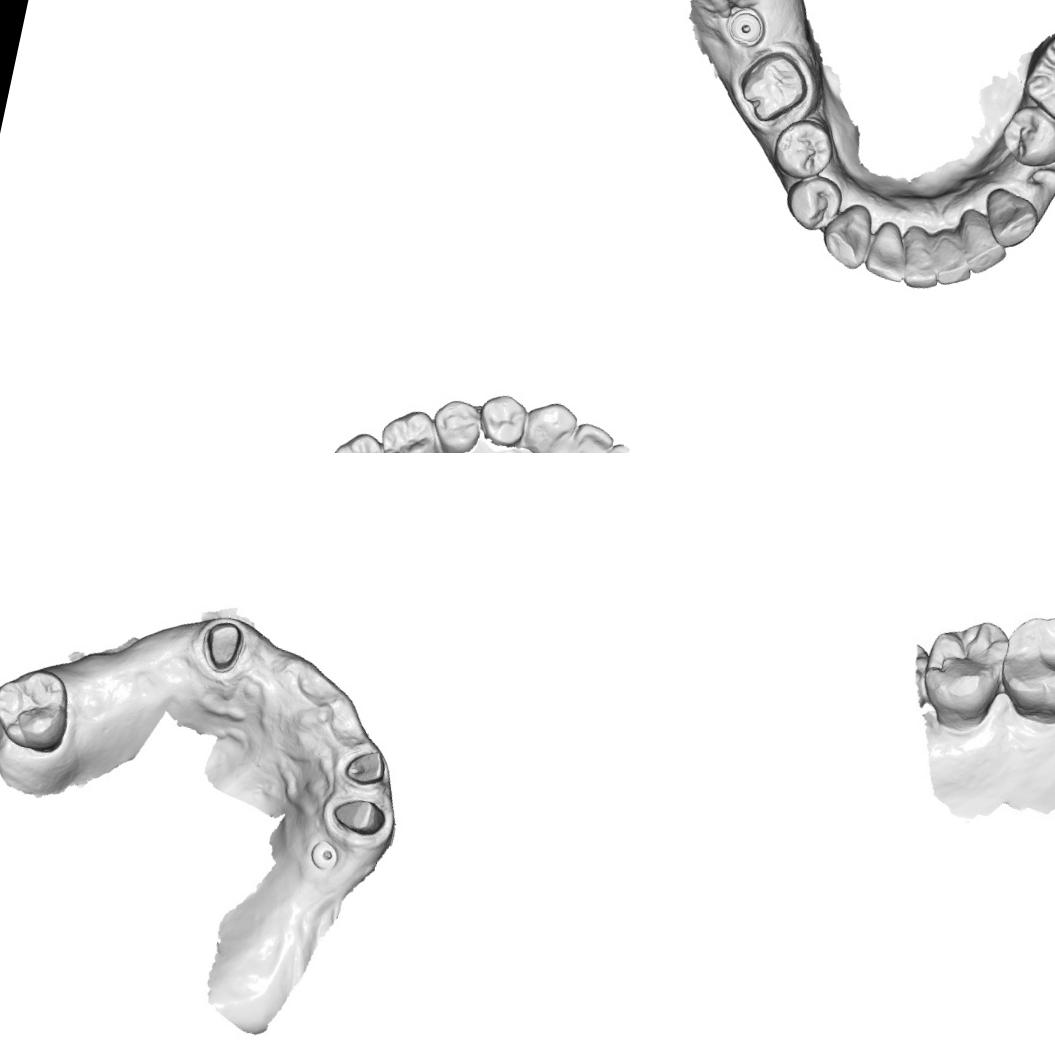canine: (814, 195, 879, 278), (978, 186, 1045, 254), (519, 395, 582, 453)
crown: (732, 43, 815, 130), (325, 790, 392, 844), (197, 614, 248, 676), (340, 742, 392, 791)
implant: (722, 2, 770, 50), (306, 836, 342, 874)
incisor: (951, 205, 1018, 280), (860, 209, 918, 284), (896, 216, 951, 293), (926, 227, 977, 292), (564, 418, 618, 453), (575, 435, 633, 453)
molar: (916, 608, 1016, 730), (0, 657, 80, 757), (994, 604, 1055, 722), (1015, 23, 1055, 132), (373, 402, 446, 453), (324, 426, 397, 453)
premolar: (766, 110, 840, 190), (780, 164, 848, 238), (995, 99, 1055, 175), (472, 387, 532, 450), (425, 394, 488, 453)
